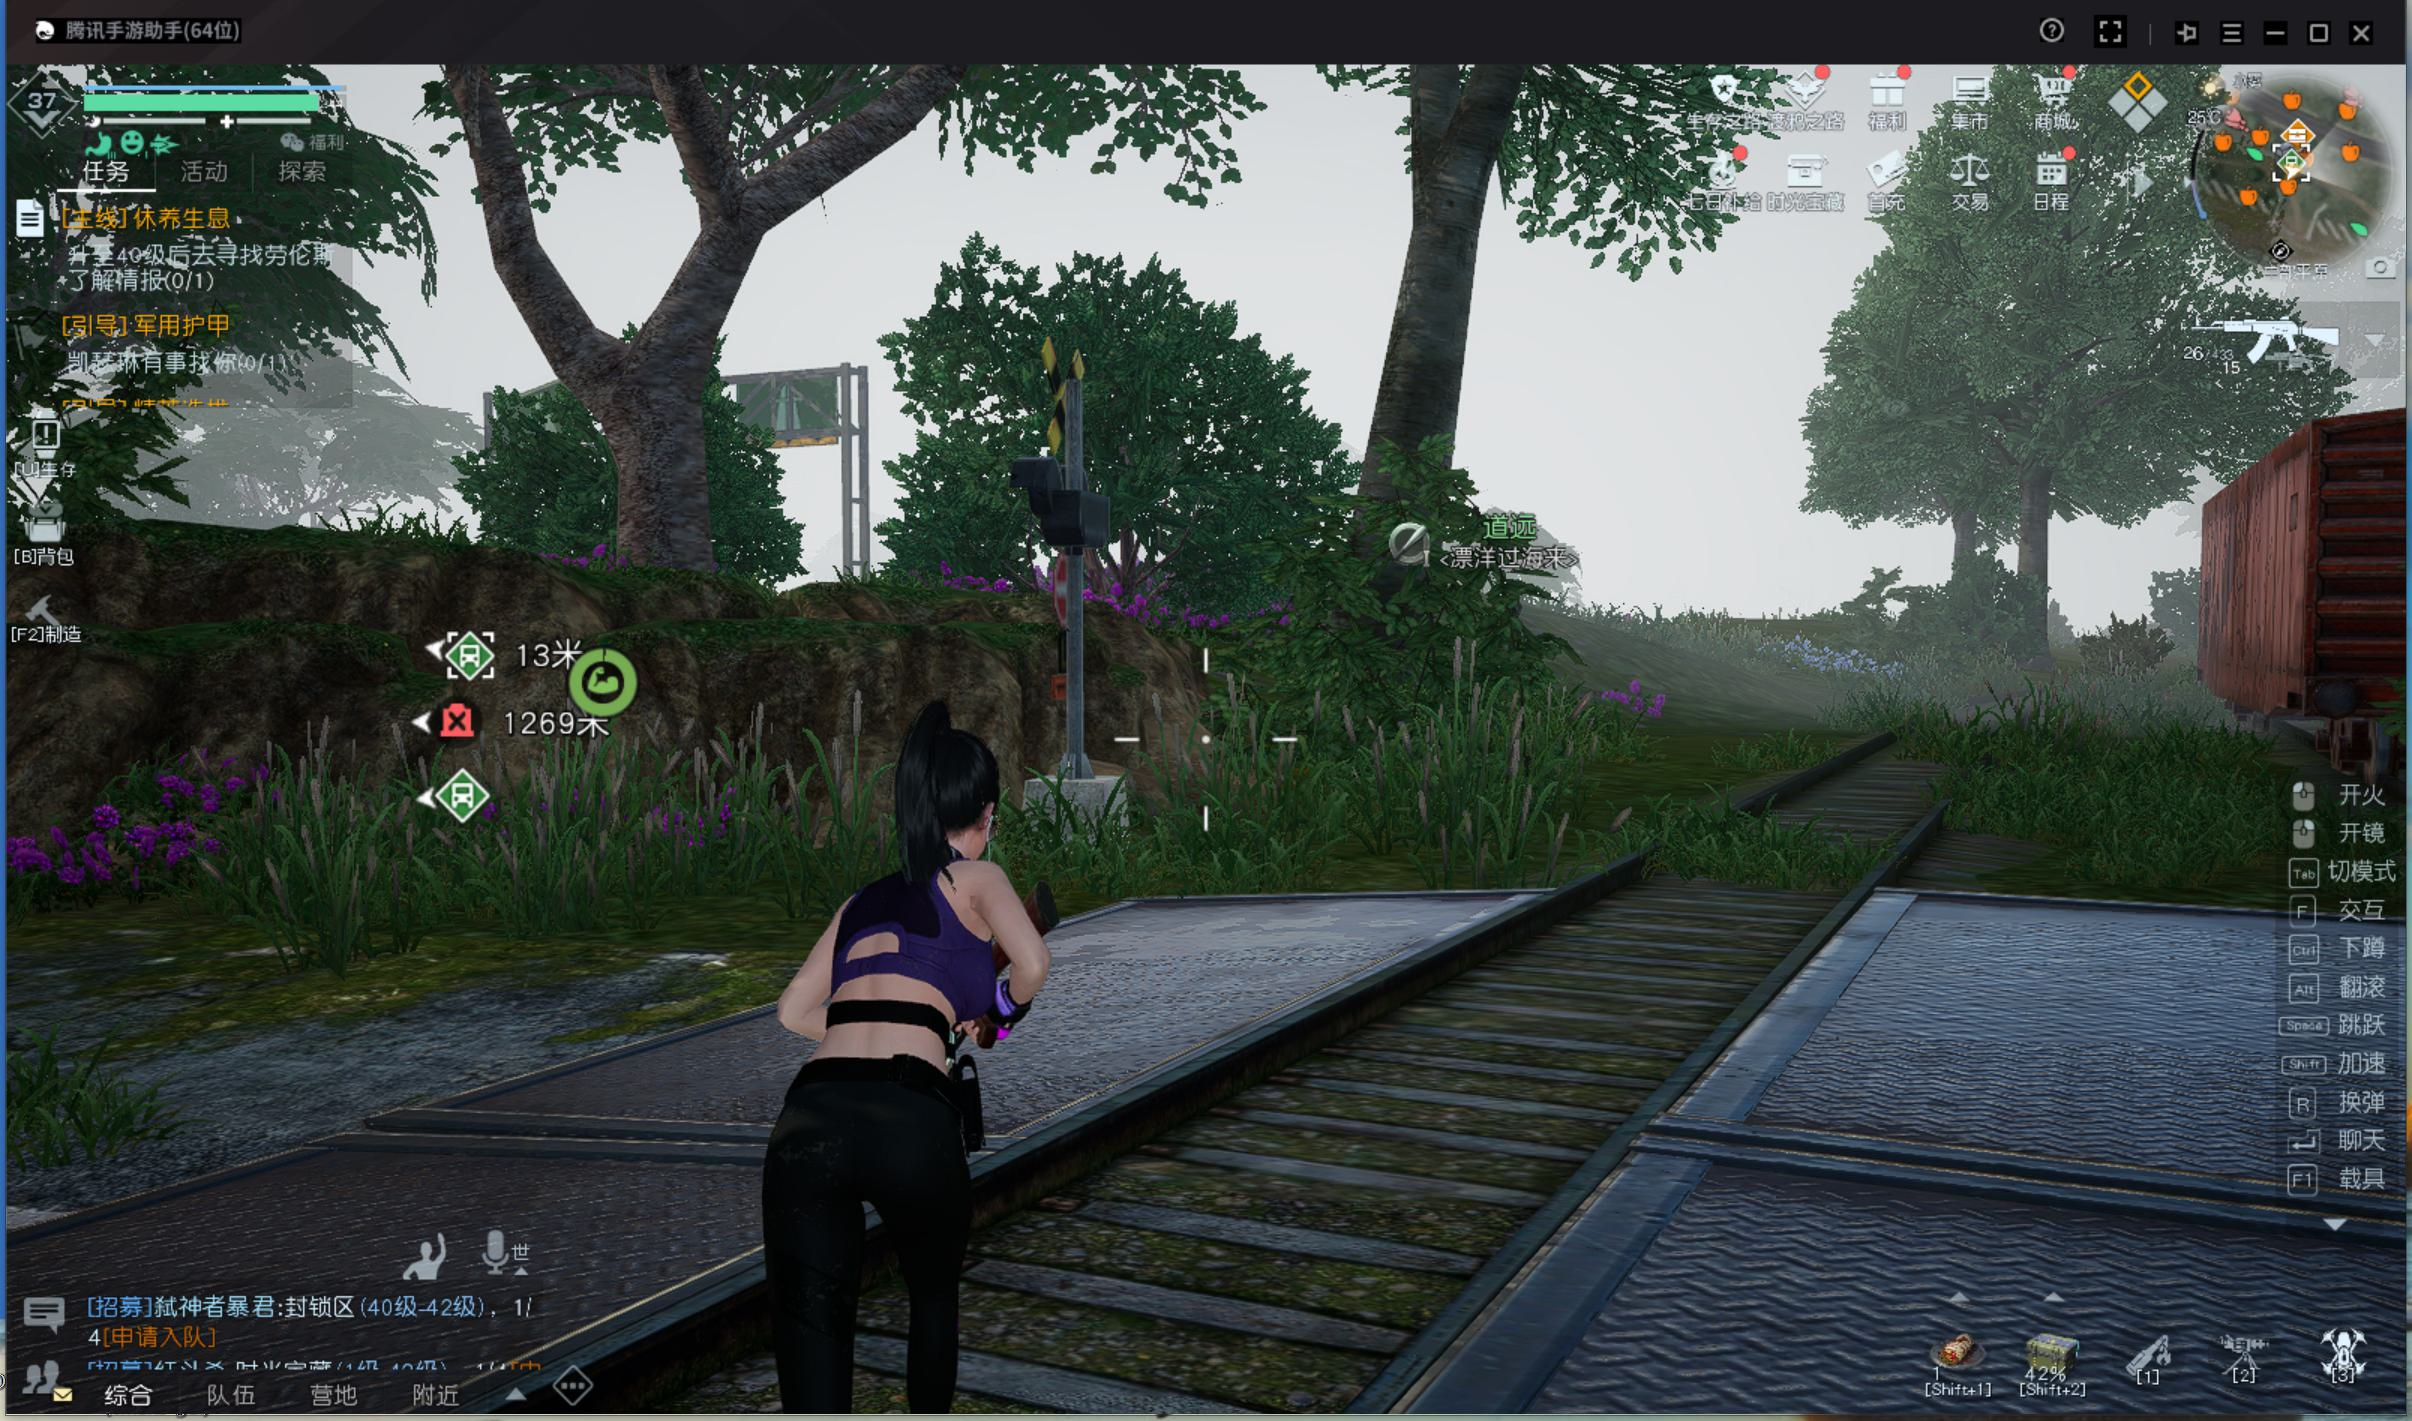tree: (1345, 191, 1485, 633), (548, 320, 749, 579), (2008, 518, 2064, 668)
